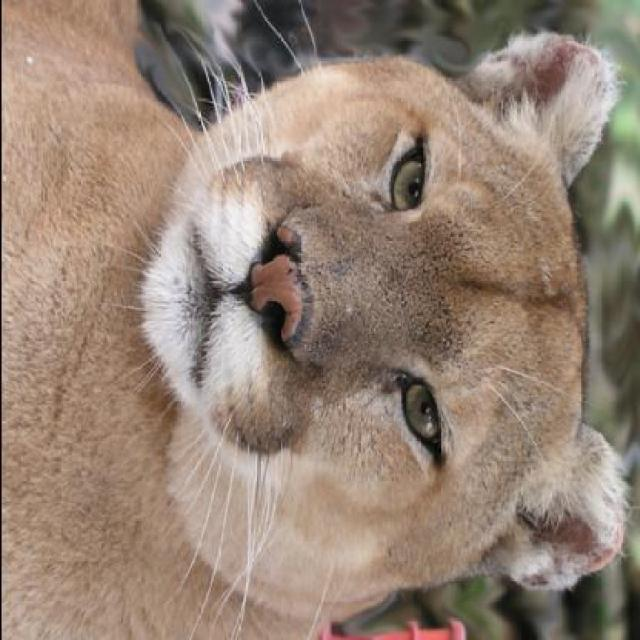Lion: (1, 2, 637, 626)
